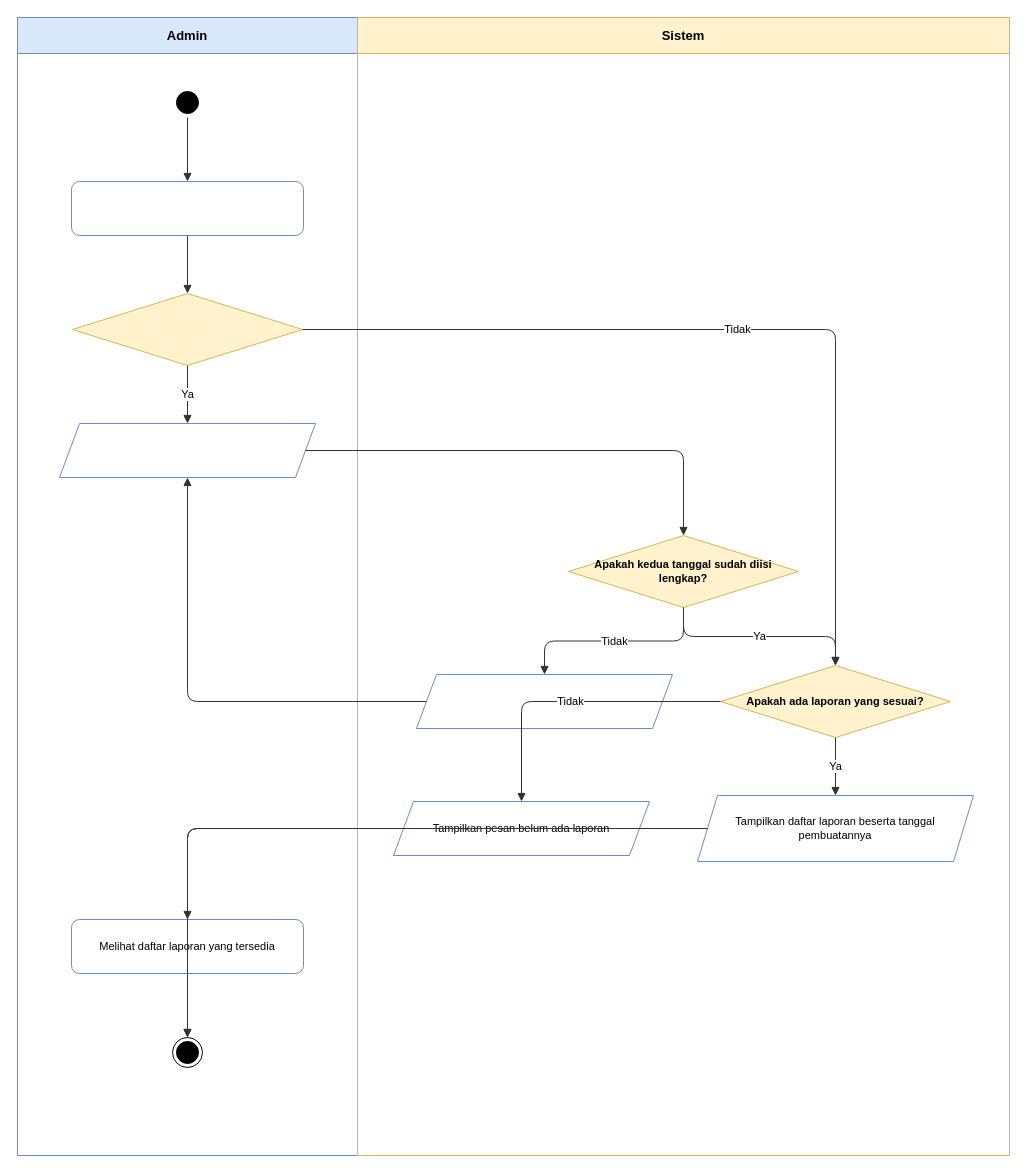
The diagram is 1027 pixels wide and 1173 high, and some of its shapes have lost their labels. Each missing label, with the centre of its shape:
"Buka menu daftar laporan" goes at (187,208).
"Ingin menyaring berdasarkan rentang tanggal?" goes at (187,329).
"Isi tanggal awal dan tanggal akhir laporan" goes at (187,450).
"Tampilkan peringatan kedua tanggal harus diisi" goes at (544,701).
